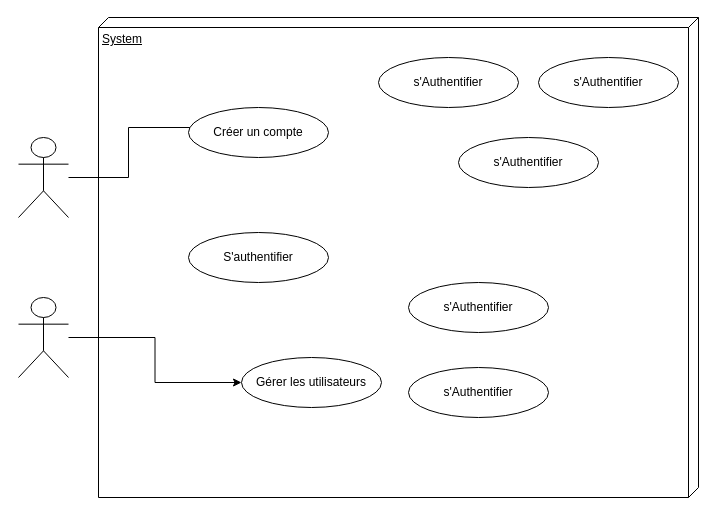
The diagram is 716 pixels wide and 515 high, and some of its shapes have lost their labels. Each missing label, with the centre of its shape:
"Admin" goes at (x=43, y=337).
"Utilisateur" goes at (x=43, y=177).
